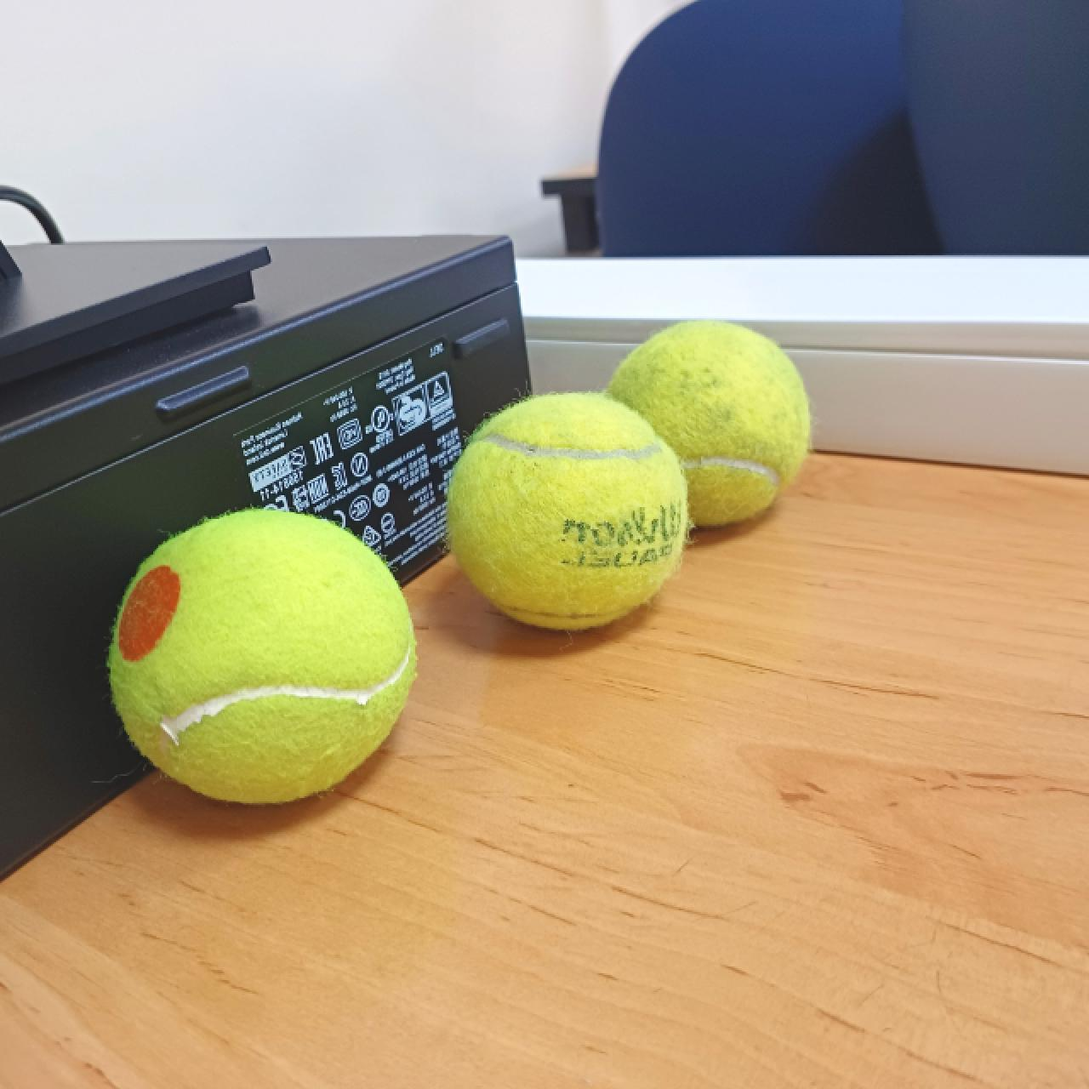tennis-ball: (107, 507, 415, 806), (441, 392, 687, 633), (600, 318, 811, 529)
